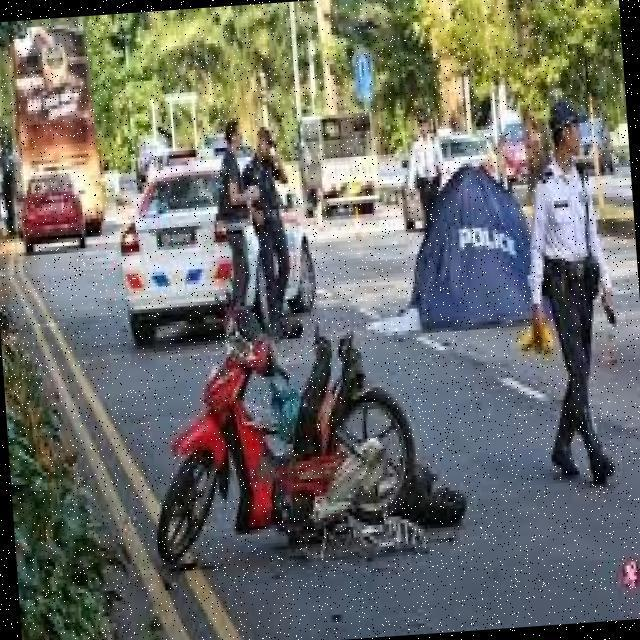accident: (161, 301, 472, 605)
